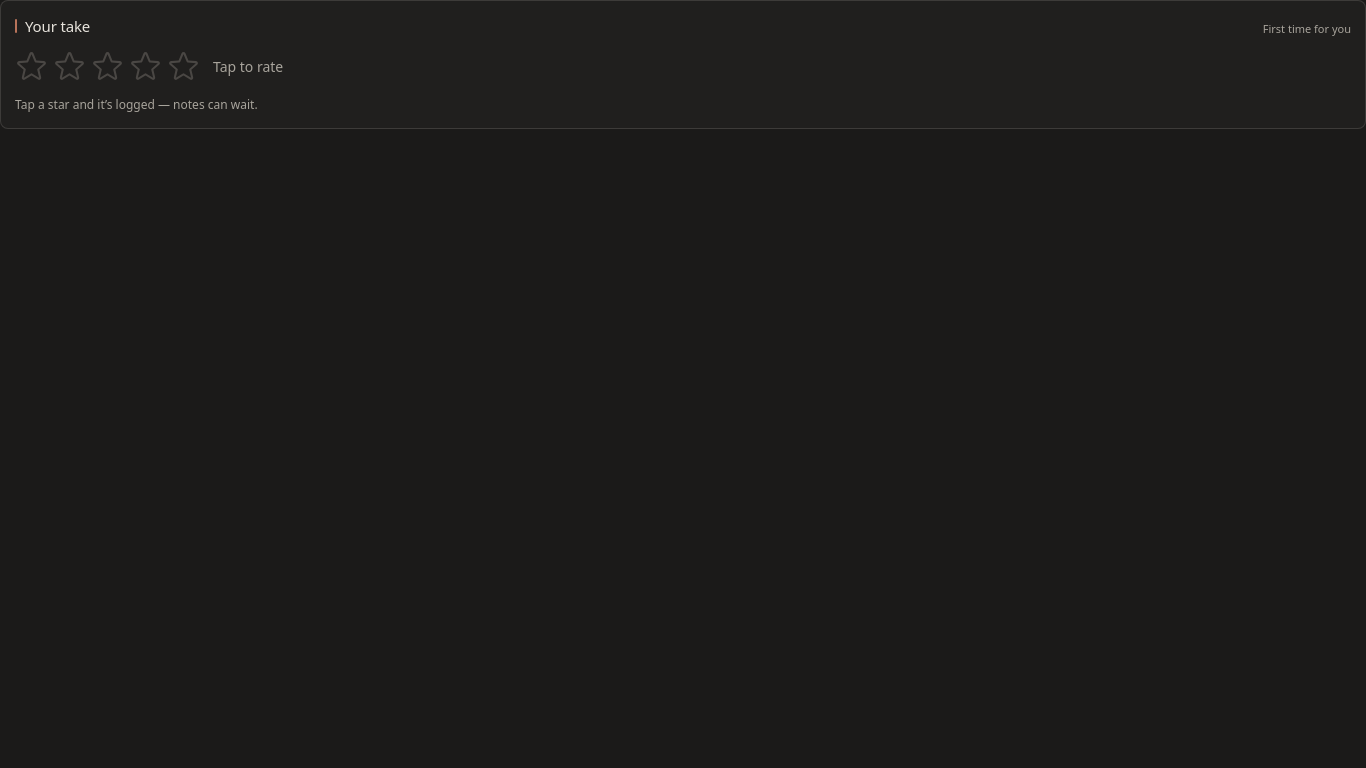
Test: §5 log panel › does not claim the palate moved for a sake with no flavor chart
Click the button with test id "star-rating-4" at coordinates (154, 67), box [146,50,163,84]
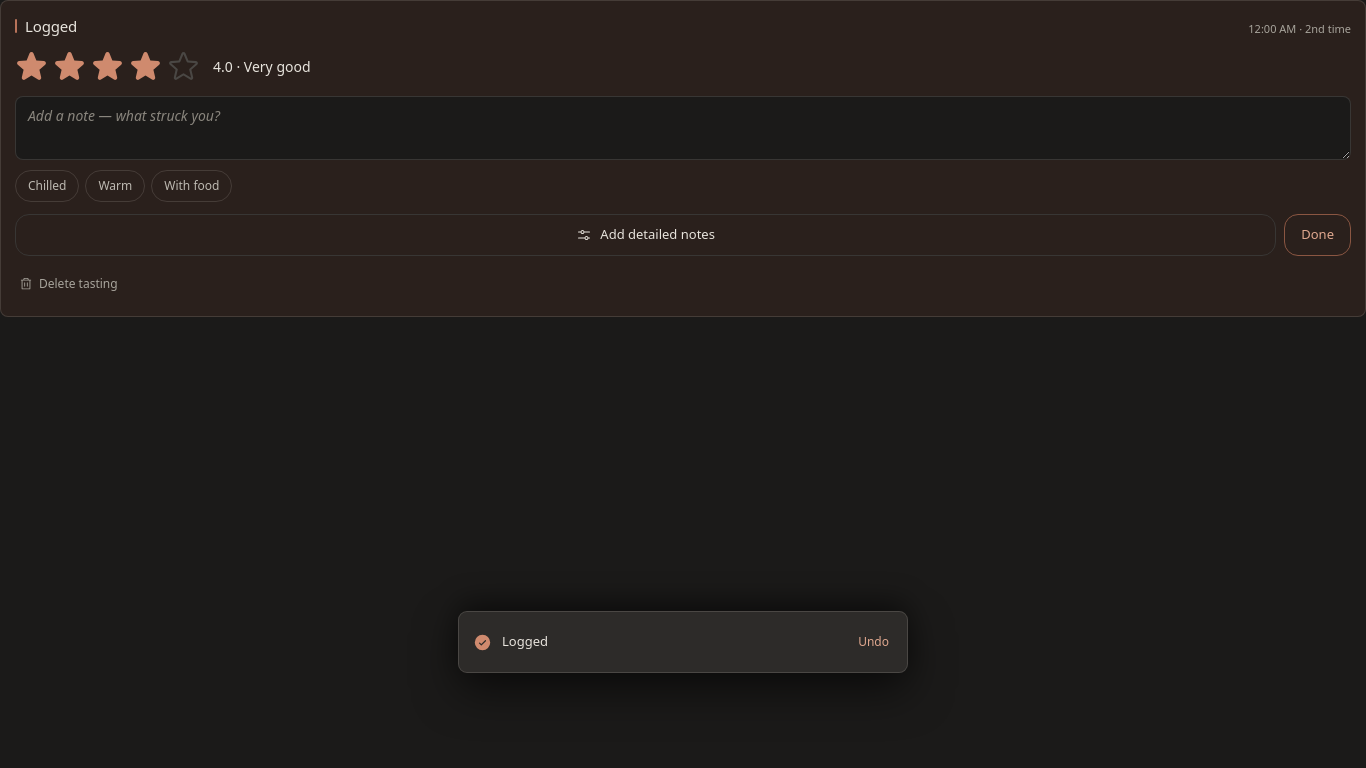
Expected: the message with test id "undo-notice" shows "Logged", [502,632,548,650]
